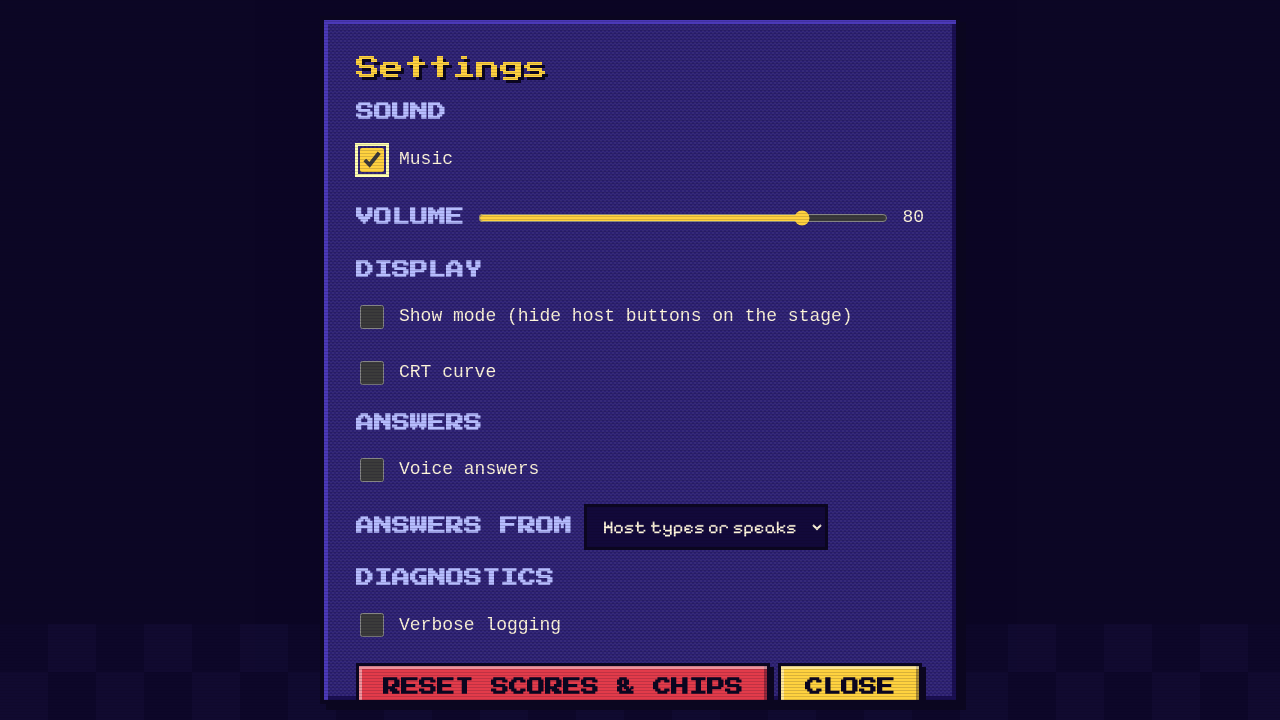
Test: SettingsDialog › resets scores only on the second tap
Click the button "Reset scores & chips" at (563, 687), box [356, 663, 770, 711]
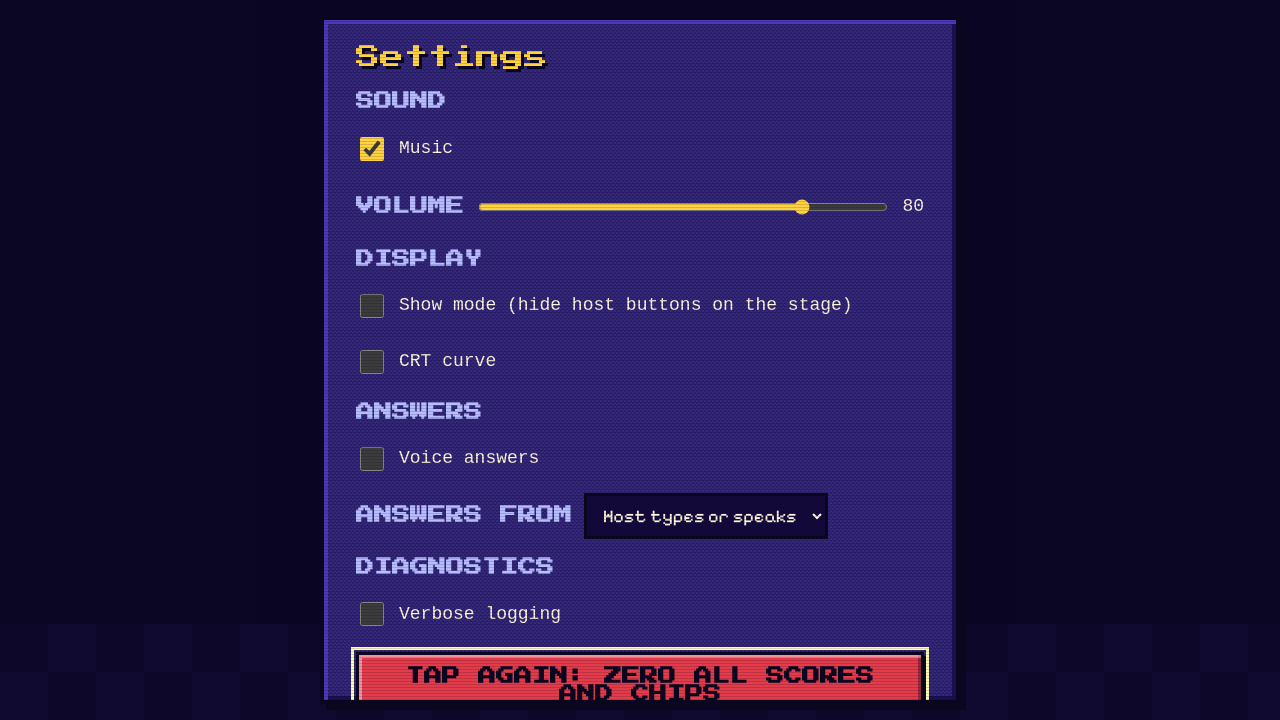
Click the button "Tap again: zero all scores and chips" at (640, 685), box [356, 652, 924, 718]
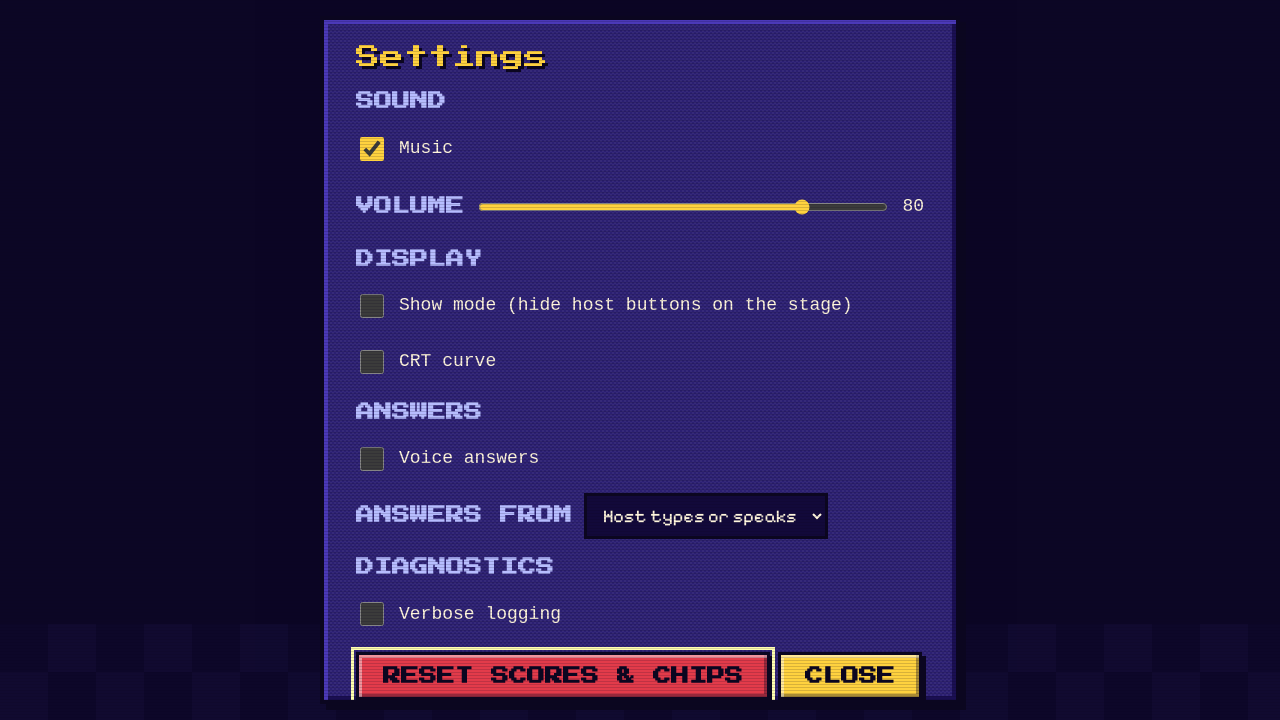
Result: the button "Reset scores & chips" is shown at [356, 652, 770, 700]
